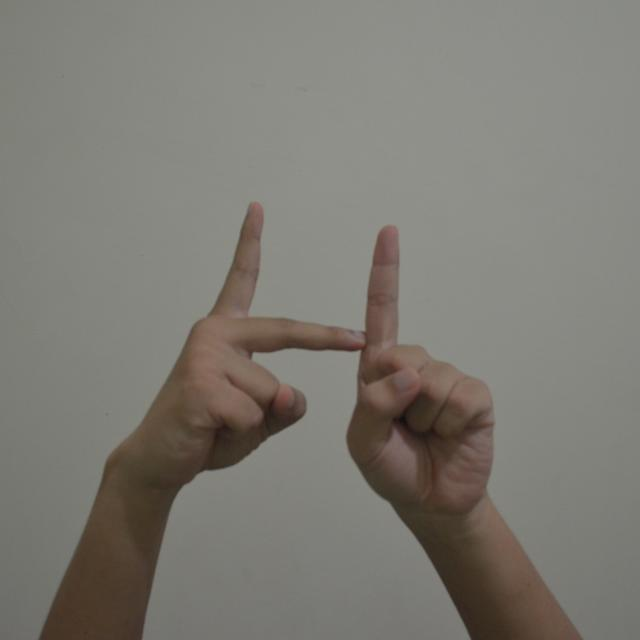H: (107, 194, 504, 529)
